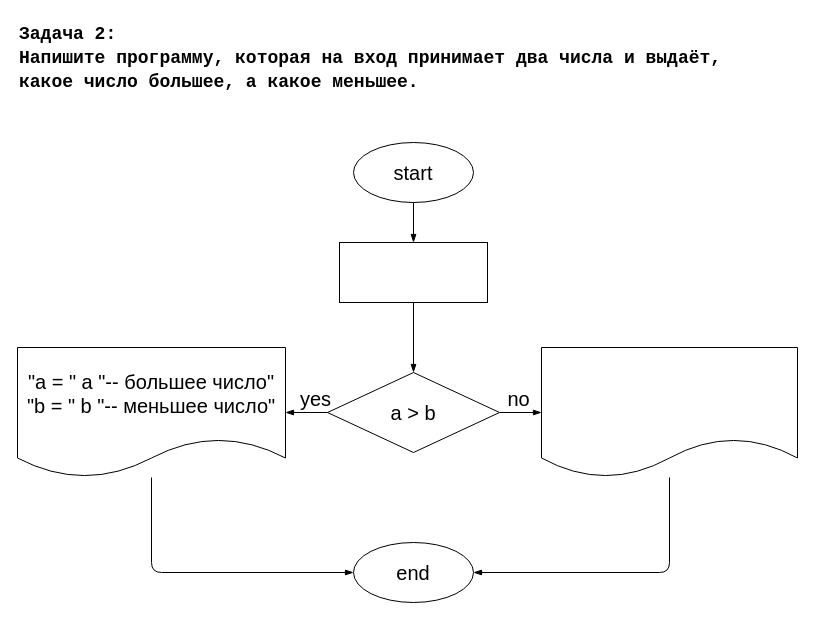
This 815x620 diagram has some shape labels left out. The shapes that lost their labels are listed below. From the top down, each one's centre as x and y in pixels, then its label:
(413,272): double a, b
(669,412): "a = " a "-- меньшее число" "b = " b "-- большее число"
